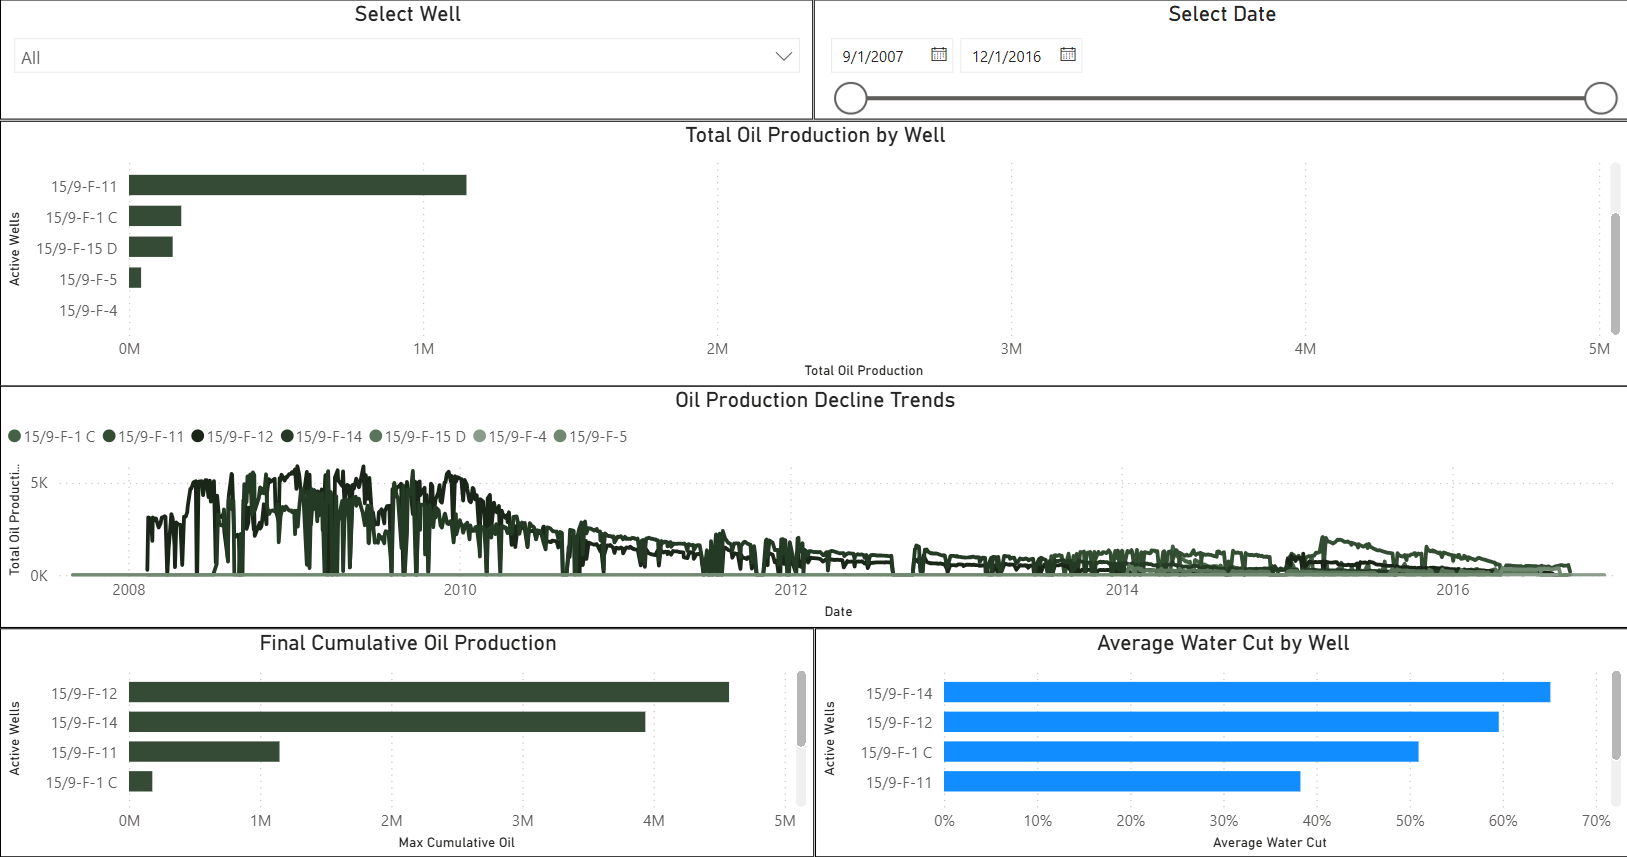

Layout of this report page (visuals, bound fields, positions):
{"tool":"powerbi","page":{"name":"Well Performance Analysis","canvas":[1280,720],"ordinal":1},"visuals":[{"type":"slicer","title":"Select Well","fields":{"Values":["volve_cleaned.npd_well_bore_name"]},"box":[0,45.3,639.5,94.7],"z":0},{"type":"slicer","title":"Select Date","fields":{"Values":["volve_cleaned.dateprd"]},"box":[639.5,45.3,640.8,94.7],"z":1000},{"type":"barChart","title":"Total Oil Production by Well","fields":{"Category":["volve_cleaned.npd_well_bore_name"],"Y":["Sum(volve_cleaned.bore_oil_vol)"]},"box":[0,140.2,1280.3,208.9],"z":2000},{"type":"lineChart","title":"Oil Production Decline Trends","fields":{"Y":["Sum(volve_cleaned.bore_oil_vol)"],"Series":["volve_cleaned.npd_well_bore_name"],"Category":["volve_cleaned.dateprd"]},"box":[0,349,1280.3,190],"z":3000},{"type":"barChart","title":"Final Cumulative Oil Production","fields":{"Category":["kpi_summary.npd_well_bore_name"],"Y":["Sum(kpi_summary.max_cumulative_oil)"]},"box":[0,539.1,640.1,180.6],"z":4000},{"type":"clusteredBarChart","title":"Average Water Cut by Well","fields":{"Category":["kpi_summary.npd_well_bore_name"],"Y":["Avg(kpi_summary.avg_water_cut)"]},"box":[640.1,539.1,640.1,180.6],"z":5000}]}

Visuals, with their boxes on the page's 1280x720 design canvas (x1, y1, x2, y2). These are canvas units, not pixel positions in the 1627x857 screenshot, which may show the page scaled, cropped or inside an application window:
"Select Well" slicer: <region>0, 45, 640, 140</region>
"Select Date" slicer: <region>640, 45, 1280, 140</region>
"Total Oil Production by Well" barChart: <region>0, 140, 1280, 349</region>
"Oil Production Decline Trends" lineChart: <region>0, 349, 1280, 539</region>
"Final Cumulative Oil Production" barChart: <region>0, 539, 640, 720</region>
"Average Water Cut by Well" clusteredBarChart: <region>640, 539, 1280, 720</region>
